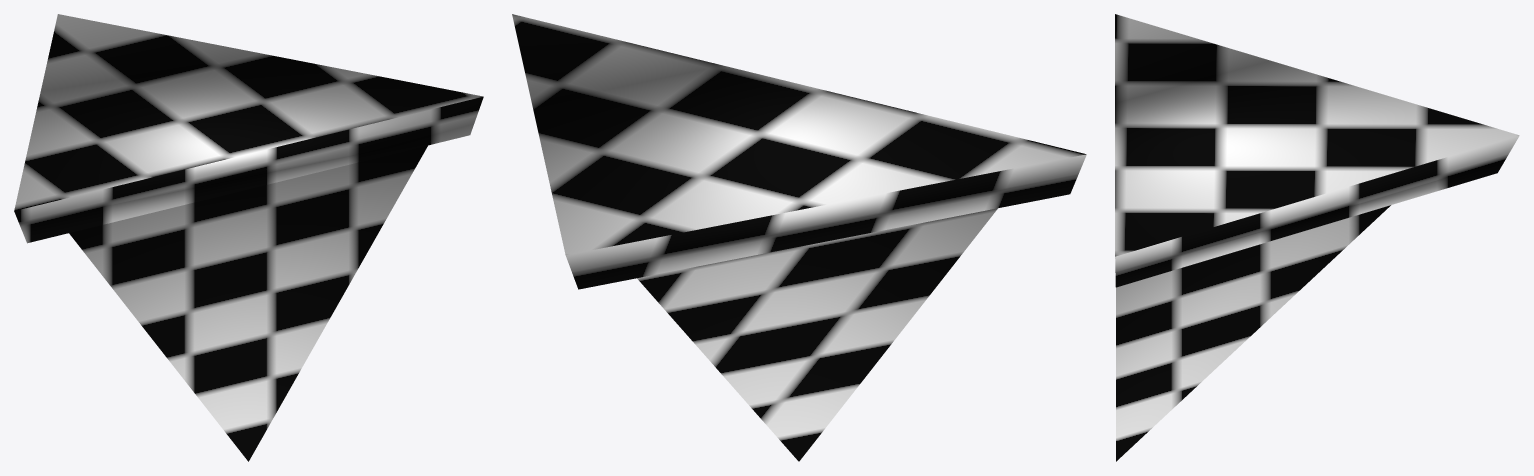
The model's file is stto7.dae.
3 views of the same model, side by side, from view 1: azimuth 30°, elevation 25°; view 2: azimuth 150°, elevation 25°; view 3: azimuth 270°, elevation 25° (orthographic). The views are drawn at different scales.
Parts seen in each view (by area): view 1: torch; view 2: torch; view 3: torch.
Part boxes in pixels (x1,y1,x2,y2): torch: [14, 14, 483, 461]; torch: [512, 14, 1086, 461]; torch: [1115, 14, 1519, 461].
Size of the model in its own units: 0.4474 by 0.3152 by 0.2807.
1 material, 1 textured.
